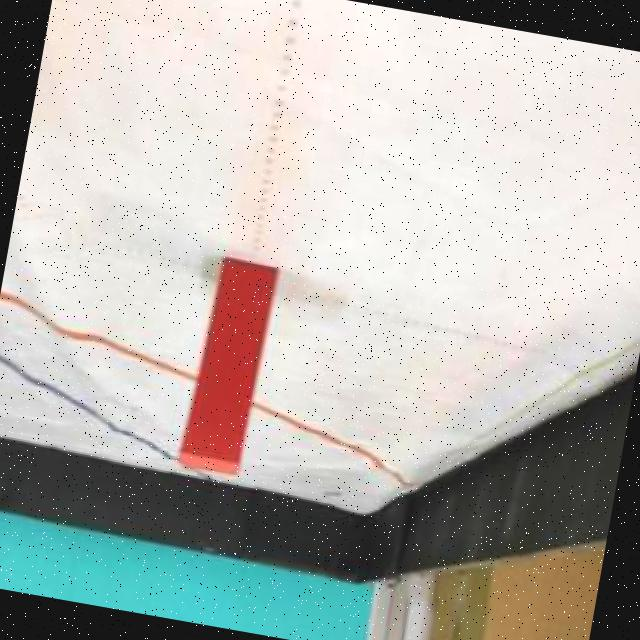redbox: (178, 252, 277, 476)
